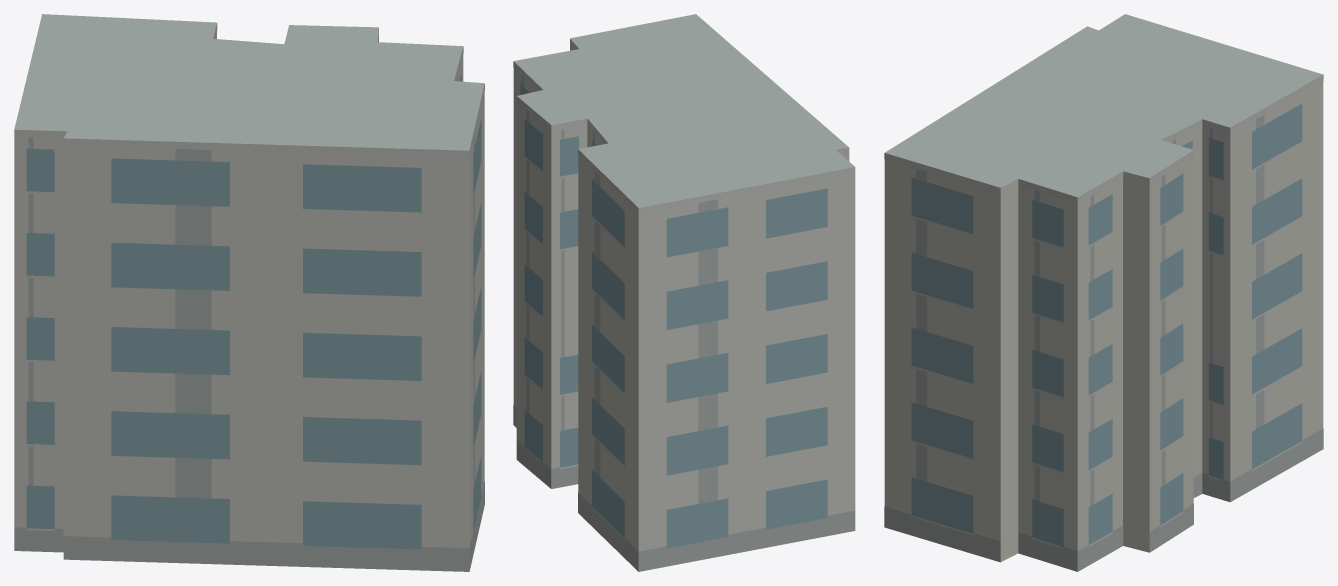
Rendered from survey-upis-32764020.glb.
3 renders of one model, left to right at view 1: azimuth 30°, elevation 25°; view 2: azimuth 150°, elevation 25°; view 3: azimuth 270°, elevation 25°, orthographic. The views are drawn at different scales.
Parts seen in each view (by area): view 1: survey-upis-32764020.tmp; view 2: survey-upis-32764020.tmp; view 3: survey-upis-32764020.tmp.
Boxes of the visible parts, x1,y1,x2,y2 form: survey-upis-32764020.tmp: (14, 14, 484, 571); survey-upis-32764020.tmp: (513, 14, 855, 571); survey-upis-32764020.tmp: (884, 14, 1323, 571).
Bounding box in the file's own units: 14.99 × 14.27 × 15.17.
